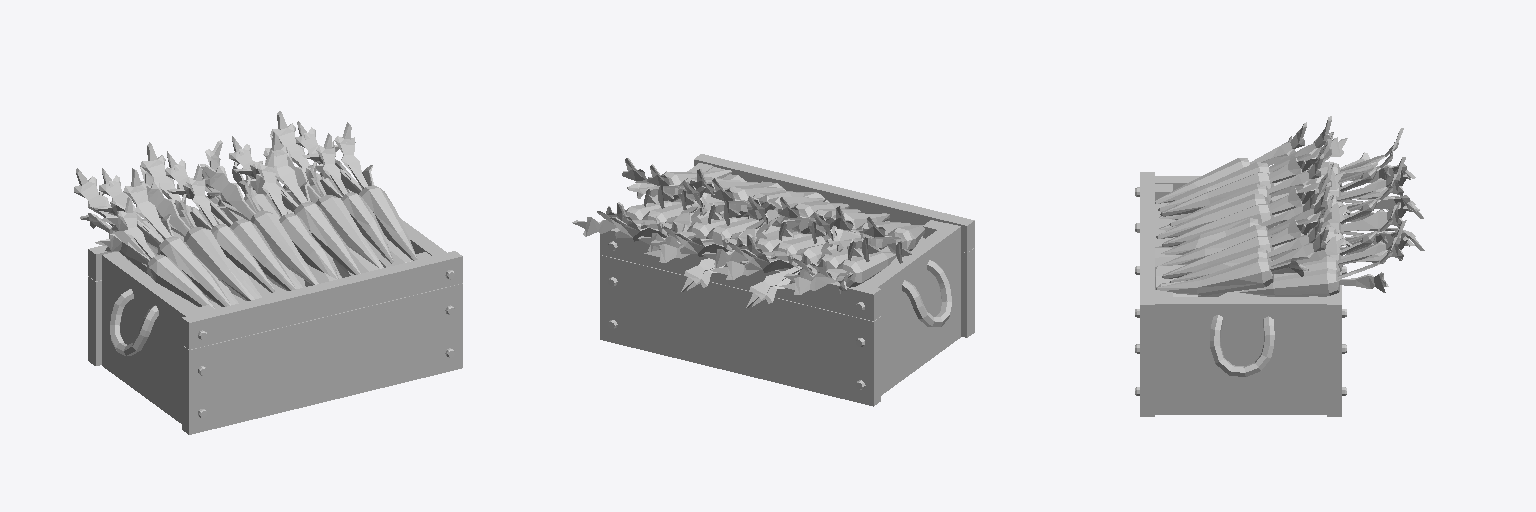
The model's file is FarmCrate_Carrot.obj.
The picture shows the model from 3 angles: view 1: azimuth 30°, elevation 25°; view 2: azimuth 150°, elevation 25°; view 3: azimuth 270°, elevation 25°; orthographic projection.
Visible parts, largest first — view 1: FarmCrate_Carrot_Cylinder.018; view 2: FarmCrate_Carrot_Cylinder.018; view 3: FarmCrate_Carrot_Cylinder.018.
Boxes of the visible parts, <box> form: FarmCrate_Carrot_Cylinder.018: <box>74,111,462,434</box>; FarmCrate_Carrot_Cylinder.018: <box>572,154,974,406</box>; FarmCrate_Carrot_Cylinder.018: <box>1135,116,1424,416</box>.
Bounding box in the file's own units: 0.7138 × 0.4113 × 0.567.